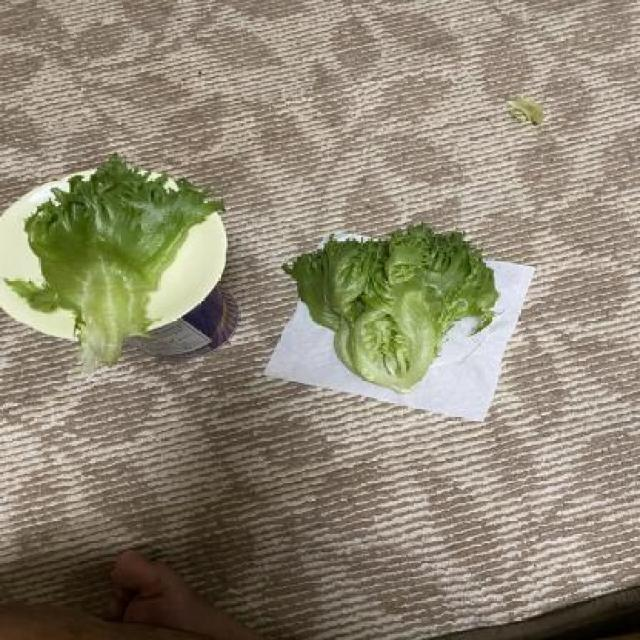Lettuce head: (8, 156, 228, 384), (284, 221, 505, 390)
